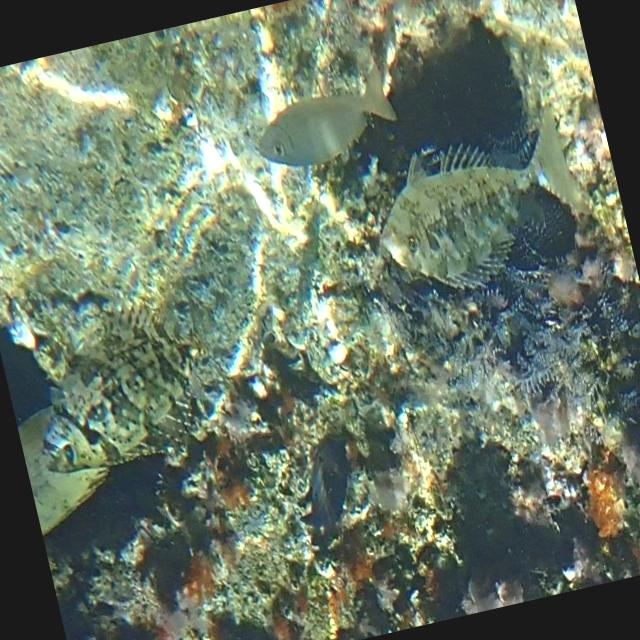Sokar Baligi: (349, 88, 607, 320), (232, 37, 409, 192)
